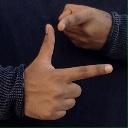hand: (22, 23, 113, 120), (56, 3, 112, 49)
